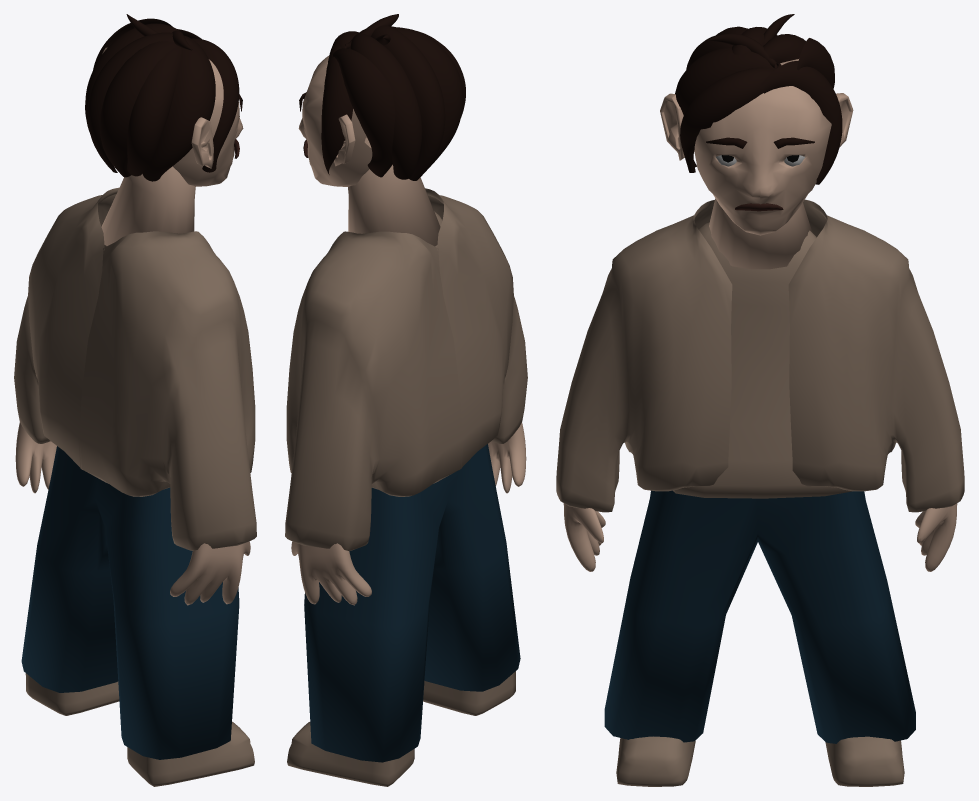
File: character4.fbx
3 views of the same model, side by side, from view 1: azimuth 30°, elevation 25°; view 2: azimuth 150°, elevation 25°; view 3: azimuth 270°, elevation 25° (orthographic). The views are drawn at different scales.
Parts seen in each view (by area): view 1: Cube.041, Cube.039, Cube.040, Cube.038, Cylinder.004, NurbsPath.010, NurbsPath.014, NurbsPath.015, Object_low.004, NurbsPath.017, NurbsPath.011, NurbsPath.016 (+2 smaller); view 2: Cube.041, Cube.039, Cube.040, Cylinder.004, Cube.038, NurbsPath.012, NurbsPath.016, NurbsPath.017, Object_low.004, NurbsPath.014, NurbsPath.013, Plane.008; view 3: Cube.041, Cube.039, Cube.042, Object_low.004, Cube.040, Cylinder.004, Cube.038, NurbsPath.011, NurbsPath.013, NurbsPath.010, Plane.008, NurbsPath.012 (+1 smaller).
Boxes of the visible parts, x1=… form: Cube.041: x1=14, y1=187, x2=256, y2=550; Cube.039: x1=21, y1=446, x2=239, y2=759; Cube.040: x1=25, y1=673, x2=254, y2=786; Cube.038: x1=15, y1=422, x2=250, y2=605; Cylinder.004: x1=101, y1=166, x2=195, y2=245; NurbsPath.010: x1=142, y1=35, x2=215, y2=181; NurbsPath.014: x1=100, y1=41, x2=178, y2=177; NurbsPath.015: x1=127, y1=47, x2=181, y2=176; Object_low.004: x1=102, y1=47, x2=243, y2=186; NurbsPath.017: x1=87, y1=32, x2=193, y2=172; NurbsPath.011: x1=191, y1=38, x2=239, y2=172; NurbsPath.016: x1=85, y1=23, x2=179, y2=131; Cube.041: x1=285, y1=188, x2=527, y2=550; Cube.039: x1=304, y1=444, x2=520, y2=762; Cube.040: x1=287, y1=671, x2=515, y2=786; Cylinder.004: x1=348, y1=137, x2=440, y2=246; Cube.038: x1=291, y1=422, x2=526, y2=605; NurbsPath.012: x1=333, y1=48, x2=395, y2=177; NurbsPath.016: x1=350, y1=33, x2=422, y2=179; NurbsPath.017: x1=371, y1=25, x2=445, y2=180; Object_low.004: x1=298, y1=55, x2=372, y2=186; NurbsPath.014: x1=392, y1=27, x2=463, y2=171; NurbsPath.013: x1=321, y1=42, x2=352, y2=174; Plane.008: x1=334, y1=114, x2=355, y2=166; Cube.041: x1=556, y1=199, x2=964, y2=512; Cube.039: x1=604, y1=490, x2=915, y2=743; Cube.042: x1=673, y1=222, x2=851, y2=498; Object_low.004: x1=694, y1=59, x2=831, y2=235; Cube.040: x1=616, y1=736, x2=904, y2=786; Cylinder.004: x1=709, y1=198, x2=812, y2=269; Cube.038: x1=563, y1=503, x2=957, y2=571; NurbsPath.011: x1=680, y1=67, x2=773, y2=172; NurbsPath.013: x1=760, y1=61, x2=842, y2=184; NurbsPath.010: x1=675, y1=47, x2=781, y2=115; Plane.008: x1=660, y1=93, x2=853, y2=160; NurbsPath.012: x1=797, y1=38, x2=834, y2=88.
Size of the model in its own units: 40.27 by 169 by 83.43.
